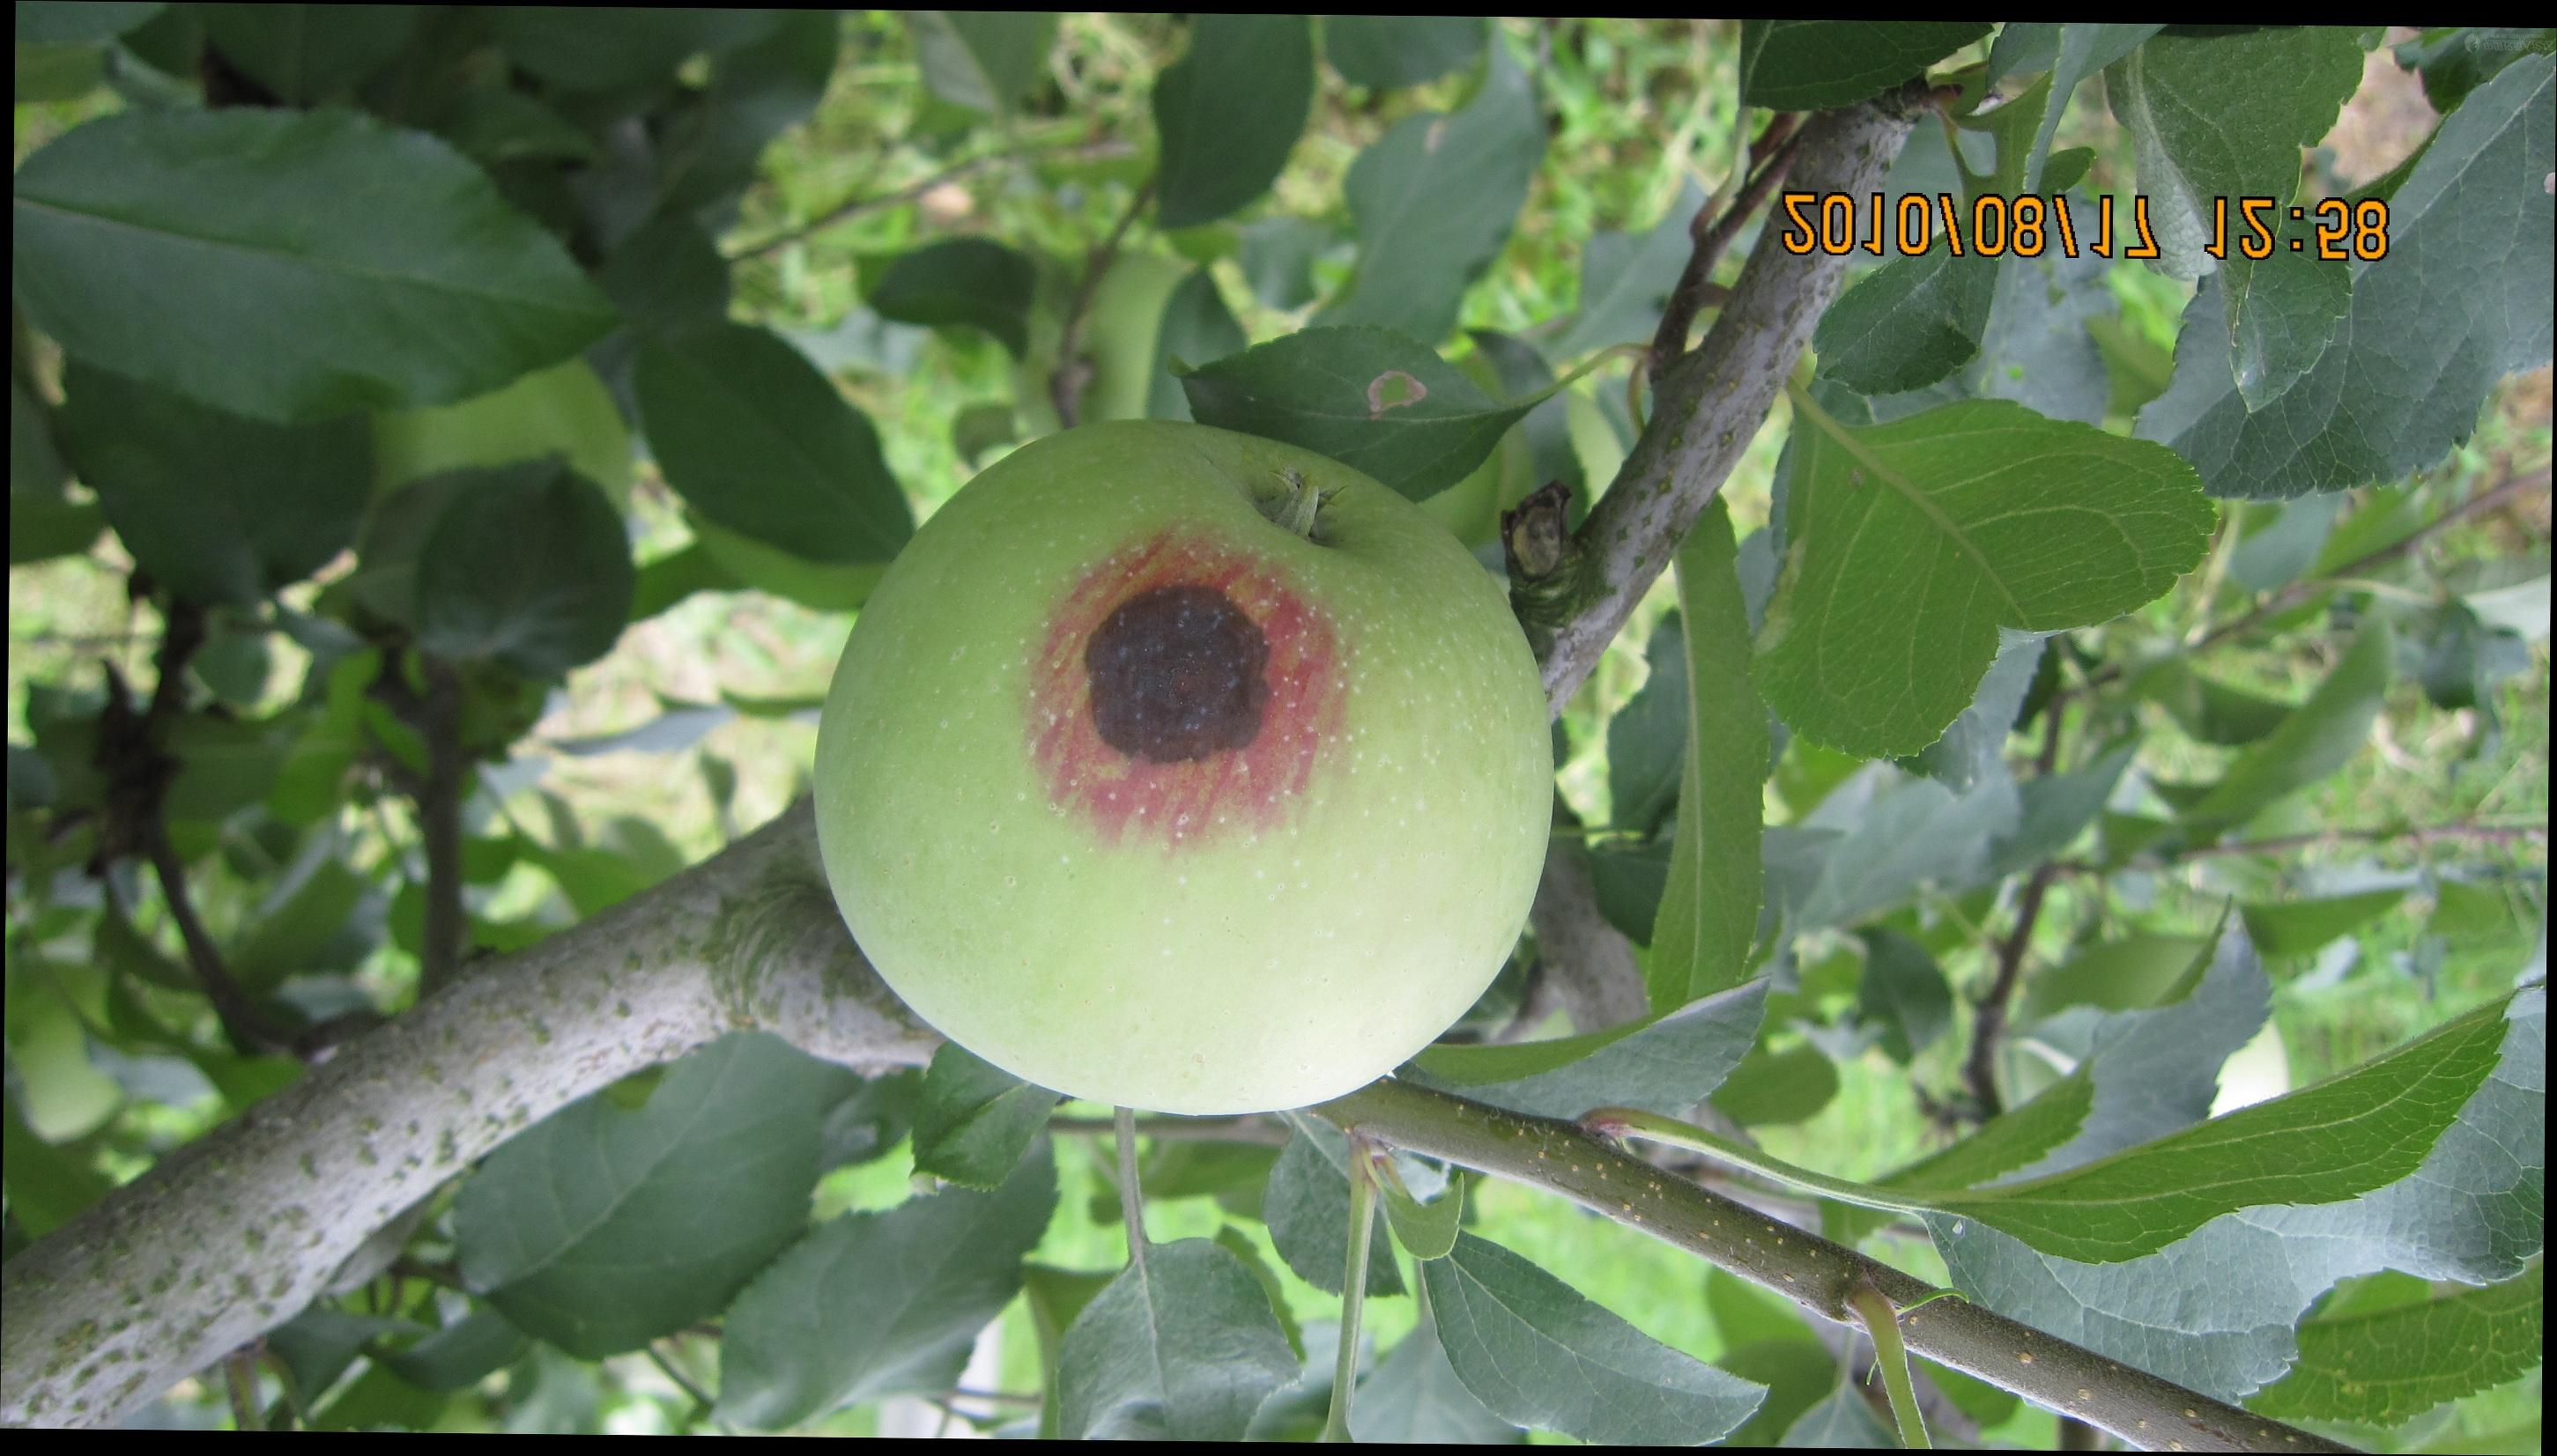rotten apple: (780, 425, 1563, 1128)
